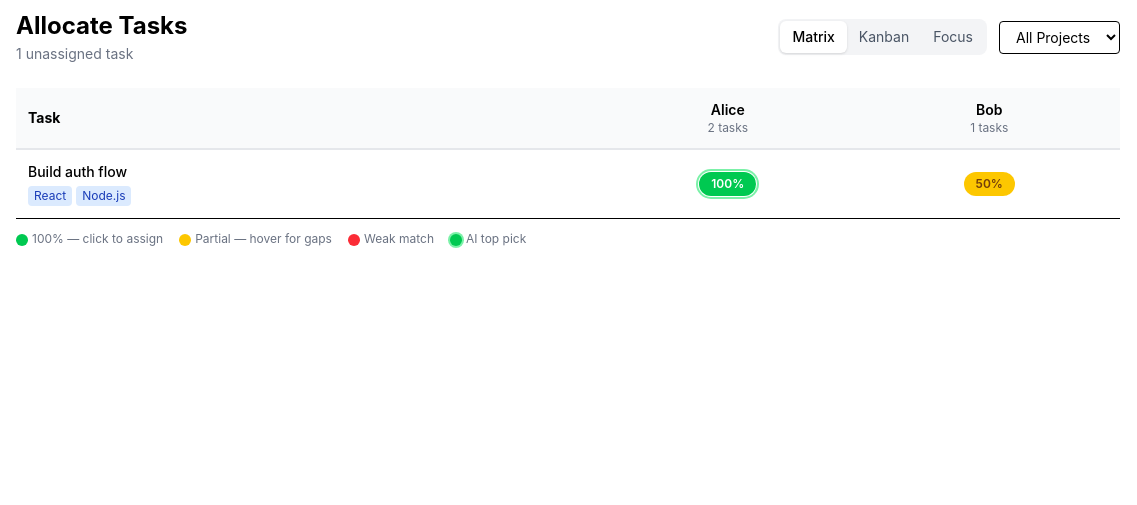
Test case: AllocationPage › switches to focus view on tab click
The width and height of the screenshot is (1137, 505).
Click the button "Focus".
click(953, 37)  # box [921,21,985,53]
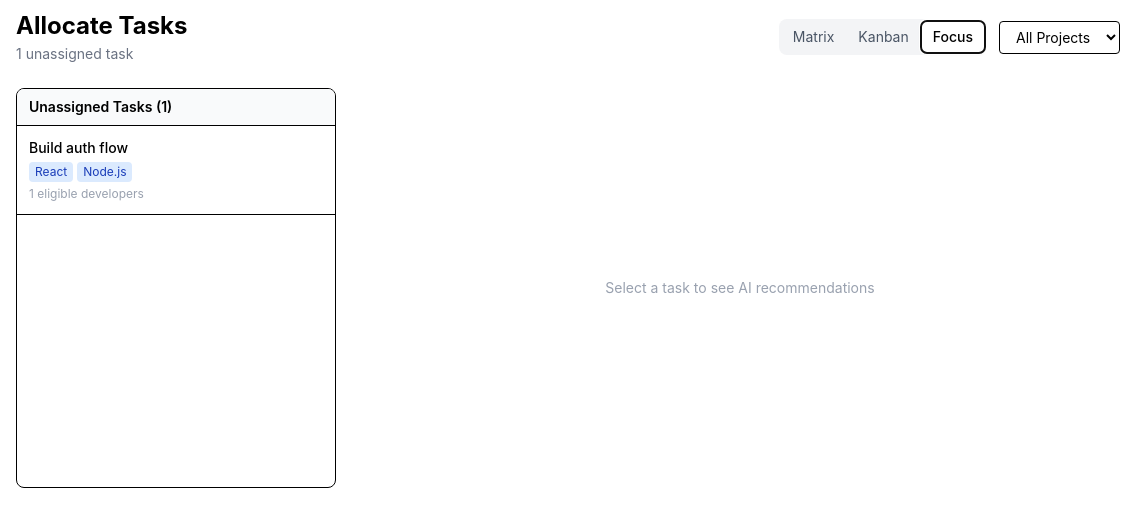
Expected: the text "Select a task to see AI recommendations" is shown, [605,279,875,296]
